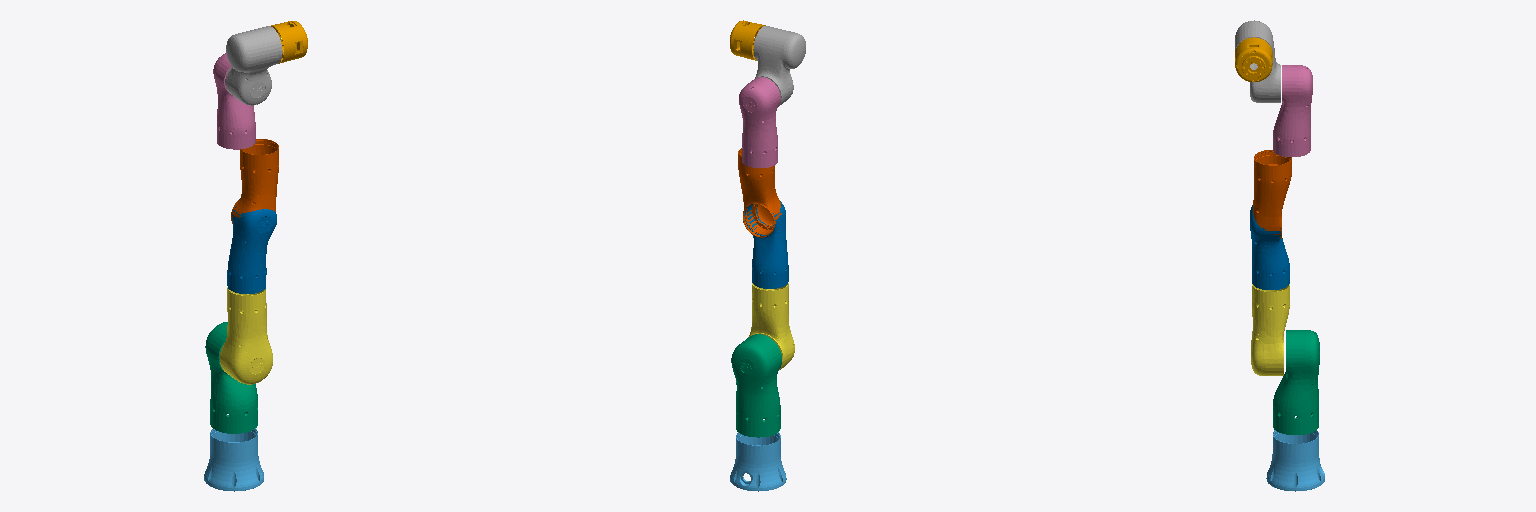
robot.urdf — flexiv_rizon4:
<?xml version="1.0" ?>
<!-- ======================================================================= -->
<!-- |                           Flexiv Rizon4 Arm                          | -->
<!-- ======================================================================= -->
<robot name="flexiv_rizon4">
  <!-- ============================ Link Configuration ===================== -->
  <link name="world"/>
  <!-- ============ base link =========== -->
  <link name="base">
    <inertial>
      <mass value="3.621510"/>
      <origin rpy="0 0 0" xyz="-0.000212 0.000709 0.086471"/>
      <inertia ixx="0.019241" iyy="0.019350" izz="0.008754" ixy="-0.000004" ixz="0.000042" iyz="-0.000135"/>
    </inertial>
    <visual>
      <origin rpy="0 0 0" xyz="0 0 0"/>
      <geometry>
        <mesh filename="graphics/link0_body.stl"/>
      </geometry>
    </visual>
    <collision>
      <origin xyz="0 0 0" rpy="0 0 0"/>
      <geometry>
        <mesh filename="graphics/link0_body.stl"/>
      </geometry>
    </collision>
  </link>
  <!-- ============ link 1 ============= -->
  <link name="link1">
    <inertial>
      <mass value="3.597309"/>
      <origin rpy="0 0 0" xyz="0.000108 0.005674 0.149068"/>
      <inertia ixx="0.026932" iyy="0.026492" izz="0.007462" ixy="-0.000028" ixz="0.000017" iyz="0.001642" />
    </inertial>
    <visual>
      <origin rpy="0 0 0" xyz="0 0 0"/>
      <geometry>
        <mesh filename="graphics/link1_assemble.stl"/>
      </geometry>
    </visual>
    <collision>
      <origin xyz="0 0 0" rpy="0 0 0"/>
      <geometry>
        <mesh filename="graphics/link1_assemble.stl"/>
      </geometry>
    </collision>
  </link>
  <!-- ============ link 2 ============= -->
  <link name="link2">
    <inertial>
      <mass value="2.675333"/>
      <origin rpy="0 0 0" xyz="0.000193 0.036108 0.097919"/>
      <inertia ixx="0.022796" iyy="0.023632" izz="0.003521" ixy="-0.000003" ixz="0.000032" iyz="-0.000250" />
    </inertial>
    <visual>
      <origin rpy="0 0 0" xyz="0 0 0"/>
      <geometry>
        <mesh filename="graphics/link2_assemble.stl"/>
      </geometry>
    </visual>
    <collision>
      <origin xyz="0 0 0" rpy="0 0 0"/>
      <geometry>
        <mesh filename="graphics/link2_assemble.stl"/>
      </geometry>
    </collision>
  </link>
  <!-- ============ link 3 ============= -->
  <link name="link3">
    <inertial>
      <mass value="2.451690"/>
      <origin rpy="0 0 0" xyz="-0.011172 -0.002417 0.129070"/>
      <inertia ixx="0.015055" iyy="0.014620" izz="0.003869" ixy="0.000129" ixz="-0.001535" iyz="-0.000735" />
    </inertial>
    <visual>
      <origin rpy="0 0 0" xyz="0 0 0"/>
      <geometry>
        <mesh filename="graphics/link3_assemble.stl"/>
      </geometry>
    </visual>
    <collision>
      <origin xyz="0 0 0" rpy="0 0 0"/>
      <geometry>
        <mesh filename="graphics/link3_assemble.stl"/>
      </geometry>
    </collision>
  </link>
  <!-- ============ link 4 ============= -->
  <link name="link4">
    <inertial>
      <mass value="2.451698"/>
      <origin rpy="0 0 0" xyz="-0.012112 0.031033 0.096818"/>
      <inertia ixx="0.019036" iyy="0.019393" izz="0.003025" ixy="0.000106" ixz="-0.001651" iyz="-0.001128" />
    </inertial>
    <visual>
      <origin rpy="0 0 0" xyz="0 0 0"/>
      <geometry>
        <mesh filename="graphics/link4_assemble.stl"/>
      </geometry>
    </visual>
    <collision>
      <origin xyz="0 0 0" rpy="0 0 0"/>
      <geometry>
        <mesh filename="graphics/link4_assemble.stl"/>
      </geometry>
    </collision>
  </link>
  <!-- ============ link 5 ============= -->
  <link name="link5">
    <inertial>
      <mass value="2.418248"/>
      <origin rpy="0 0 0" xyz="-0.000202 0.002709 0.128403"/>
      <inertia ixx="0.014913" iyy="0.014262" izz="0.003589" ixy="0.000004" ixz="-0.000030" iyz="0.000750" />
    </inertial>
    <visual>
      <origin rpy="0 0 0" xyz="0 0 0"/>
      <geometry>
        <mesh filename="graphics/link5_assemble.stl"/>
      </geometry>
    </visual>
    <collision>
      <origin xyz="0 0 0" rpy="0 0 0"/>
      <geometry>
        <mesh filename="graphics/link5_assemble.stl"/>
      </geometry>
    </collision>
  </link>
  <!-- ============ link 6 ============= -->
  <link name="link6">
    <inertial>
      <mass value="2.184193"/>
      <origin rpy="0 0 0" xyz="-0.008700 0.055283 0.066250"/>
      <inertia ixx="0.008735" iyy="0.008982" izz="0.003735" ixy="-0.000287" ixz="-0.000855" iyz="0.001910" />
    </inertial>
    <visual>
      <origin rpy="0 0 0" xyz="0 0 0"/>
      <geometry>
        <mesh filename="graphics/link6_assemble.stl"/>
      </geometry>
    </visual>
    <collision>
      <origin xyz="0 0 0" rpy="0 0 0"/>
      <geometry>
        <mesh filename="graphics/link6_assemble.stl"/>
      </geometry>
    </collision>
  </link>

  <!-- ============ link 7 ============= -->
  <link name="link7">
    <inertial>
      <mass value="0.935124"/>
      <origin rpy="0 0 0" xyz="-0.000011 -0.000252 0.025334"/>
      <inertia ixx="0.001211" iyy="0.001233" izz="0.001111" ixy="0.000001" ixz="-0.000001" iyz="-0.000006" />
    </inertial>
    <visual>
      <origin rpy="0 0 0" xyz="0 0 0"/>
      <geometry>
        <mesh filename="graphics/link7_assemble.stl"/>
      </geometry>
    </visual>
    <collision>
      <origin xyz="0 0 0" rpy="0 0 0"/>
      <geometry>
        <mesh filename="graphics/link7_assemble.stl"/>
      </geometry>
    </collision>
  </link>

  <!-- ============ flange ============= -->
  <link name="flange">
    <inertial>
      <mass value="0.0"/>
      <origin rpy="0 0 0" xyz="0 0 0"/>
      <inertia ixx="0.0" iyy="0.0" izz="0.0" ixy="0.0" ixz="0.0" iyz="0.0" />
    </inertial>
  </link>

  <!-- ========================= Joint Configuration ======================= -->
  <!-- ============ joint 0 =============== -->
  <joint name="joint0" type="fixed">
    <origin rpy="0 0 -3.1415927" xyz="0 0 0"/>
    <parent link="world"/>
    <child link="base"/>
  </joint>

  <!-- ============ joint 1 =============== -->
  <joint name="joint1" type="revolute">
    <origin rpy="0 0 0" xyz="0.0 0.0 0.155"/>
    <axis xyz="0 0 1"/>
    <limit effort="123" lower="-2.87979" upper="2.87979" velocity="2.61799"/>
    <dynamics damping="0.1"/>
    <parent link="base"/>
    <child link="link1"/>
  </joint>

  <!-- ============ joint 2 =============== -->
  <joint name="joint2" type="revolute">
    <origin rpy="0 0 0" xyz="0.0 0.03 0.210"/>
    <axis xyz="0 1 0"/>
    <limit effort="123" lower="-2.16421" upper="2.16421" velocity="2.61799"/>
    <dynamics damping="0.1"/>
    <parent link="link1"/>
    <child link="link2"/>
  </joint>

  <!-- ============ joint 3 =============== -->
  <joint name="joint3" type="revolute">
    <origin rpy="0 0 0" xyz="0.0 0.035 0.205"/>
    <axis xyz="0 0 1"/>
    <limit effort="64" lower="-3.05433" upper="3.05433" velocity="2.61799"/>
    <dynamics damping="0.1"/>
    <parent link="link2"/>
    <child link="link3"/>
  </joint>

  <!-- ============ joint 4 =============== -->
  <joint name="joint4" type="revolute">
    <origin rpy="0 0 -3.1415927" xyz="-0.02 -0.03 0.19"/>
    <axis xyz="0 1 0"/>
    <limit effort="64" lower="-2.79253" upper="1.95477" velocity="2.61799"/>
    <dynamics damping="0.1"/>
    <parent link="link3"/>
    <child link="link4"/>
  </joint>

  <!-- ============ joint 5 =============== -->
  <joint name="joint5" type="revolute">
    <origin rpy="0 0 -3.1415927" xyz="-0.02 0.025 0.195"/>
    <axis xyz="0 0 1"/>
    <limit effort="39" lower="-3.05433" upper="3.05433" velocity="5.23599"/>
    <dynamics damping="0.1"/>
    <parent link="link4"/>
    <child link="link5"/>
  </joint>

  <!-- ============ joint 6 =============== -->
  <joint name="joint6" type="revolute">
    <origin rpy="0 0 0" xyz="0.0 0.03 0.19"/>
    <axis xyz="0 1 0"/>
    <limit effort="39" lower="-1.48353" upper="4.62512" velocity="5.23599"/>
    <dynamics damping="0.1"/>
    <parent link="link5"/>
    <child link="link6"/>
  </joint>

  <!-- ============ joint 7 =============== -->
  <joint name="joint7" type="revolute">
    <origin rpy="0 -1.5707963 0" xyz="-0.055 0.070 0.11"/>
    <axis xyz="0 0 1"/>
    <limit effort="39" lower="-3.05433" upper="3.05433" velocity="5.23599"/>
    <dynamics damping="0.1"/>
    <parent link="link6"/>
    <child link="link7"/>
  </joint>
  <!-- ============ joint flange =============== -->
  <joint name="jointF" type="fixed">
    <origin rpy="0 0 -3.1415927" xyz="0.0 0.0 0.074"/>
    <parent link="link7"/>
    <child link="flange"/>
  </joint>
</robot>

--- Facts derived from the render (not from the file) ---
The picture shows the robot from 3 angles, left to right: view 1: azimuth 30°, elevation 25°; view 2: azimuth 150°, elevation 25°; view 3: azimuth 270°, elevation 25°; orthographic projection.
Model flexiv_rizon4 with 10 links and 9 joints (7 revolute, 2 fixed), rooted at world, posed all joints at 0.
Links seen in each view (by area): view 1: link2, link6, link1, link3, base, link4, link5, link7; view 2: link1, link5, base, link6, link2, link4, link3, link7; view 3: link1, link5, link2, base, link4, link3, link6, link7.
Boxes of the visible links, box(x1,y1,x2,y2) form: link2: box(219, 287, 272, 384); link6: box(225, 26, 282, 105); link1: box(205, 322, 257, 433); link3: box(227, 207, 276, 293); base: box(204, 428, 263, 491); link4: box(231, 139, 278, 223); link5: box(213, 53, 255, 149); link7: box(271, 21, 307, 63); link1: box(731, 334, 781, 437); link5: box(739, 77, 780, 167); base: box(730, 432, 786, 491); link6: box(753, 26, 805, 106); link2: box(748, 283, 794, 369); link4: box(738, 148, 781, 237); link3: box(744, 201, 788, 288); link7: box(730, 20, 765, 60); link1: box(1273, 330, 1319, 434); link5: box(1273, 65, 1312, 156); link2: box(1251, 284, 1289, 375); base: box(1266, 430, 1324, 491); link4: box(1253, 150, 1291, 238); link3: box(1250, 205, 1289, 289); link6: box(1235, 20, 1280, 102); link7: box(1235, 37, 1272, 81).
Bounding box of the posed robot: 0.213 × 0.237 × 1.3 m (x, y, z).
8 mesh visuals loaded from 8 distinct referenced files (8 binary STL).
